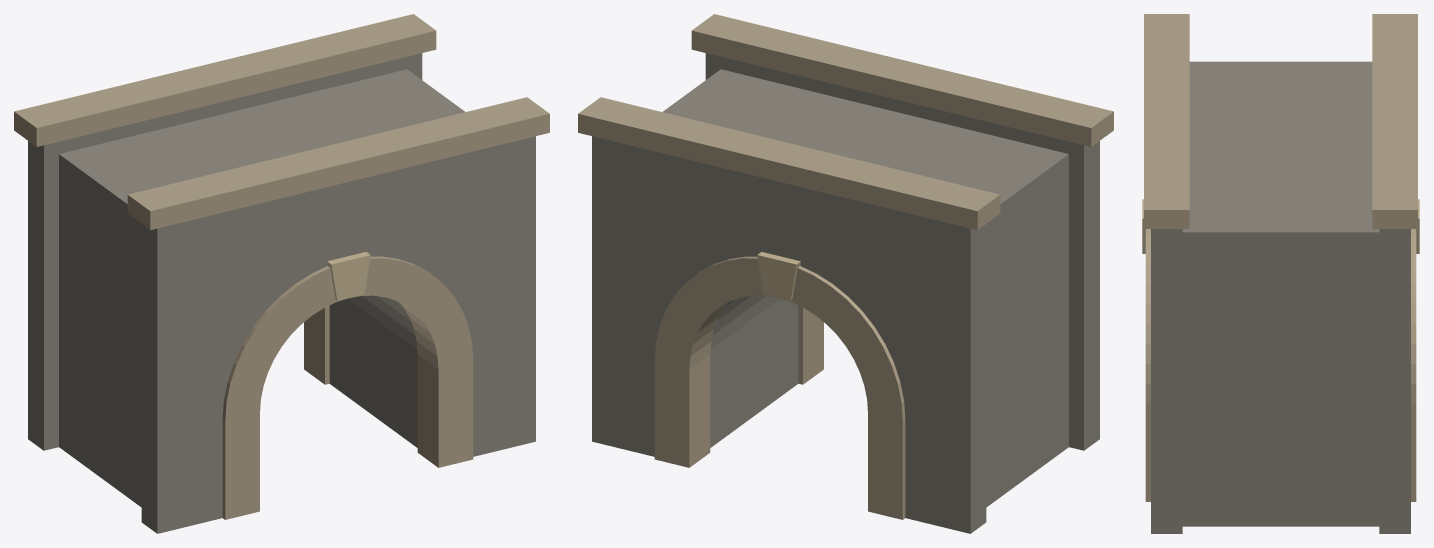
The picture shows the model from 3 angles, left to right: view 1: azimuth 30°, elevation 25°; view 2: azimuth 150°, elevation 25°; view 3: azimuth 270°, elevation 25°; orthographic projection.
Parts seen in each view (by area): view 1: TUN_stone_grey, TUN_arch_stone, TUN_keystone; view 2: TUN_stone_grey, TUN_arch_stone, TUN_keystone; view 3: TUN_stone_grey, TUN_arch_stone.
Part boxes in pixels (x1,y1,x2,y2): TUN_stone_grey: [28, 53, 535, 533]; TUN_arch_stone: [14, 14, 549, 519]; TUN_keystone: [327, 252, 370, 300]; TUN_stone_grey: [592, 53, 1099, 533]; TUN_arch_stone: [578, 14, 1113, 519]; TUN_keystone: [757, 252, 800, 300]; TUN_stone_grey: [1151, 61, 1410, 533]; TUN_arch_stone: [1144, 14, 1417, 501].
Bounding box in the file's own units: 2.64 × 2.07 × 1.58.
